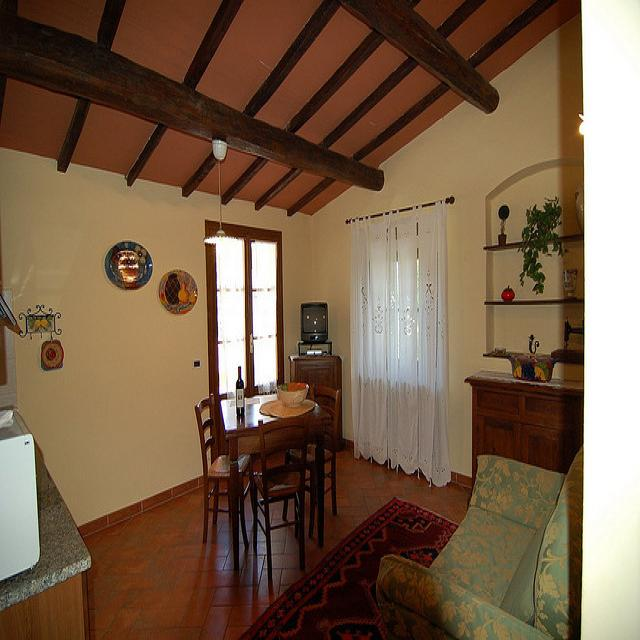chair: (194, 394, 260, 552), (254, 416, 308, 580), (305, 384, 341, 537), (287, 381, 309, 399)
dining table: (219, 389, 329, 437)
